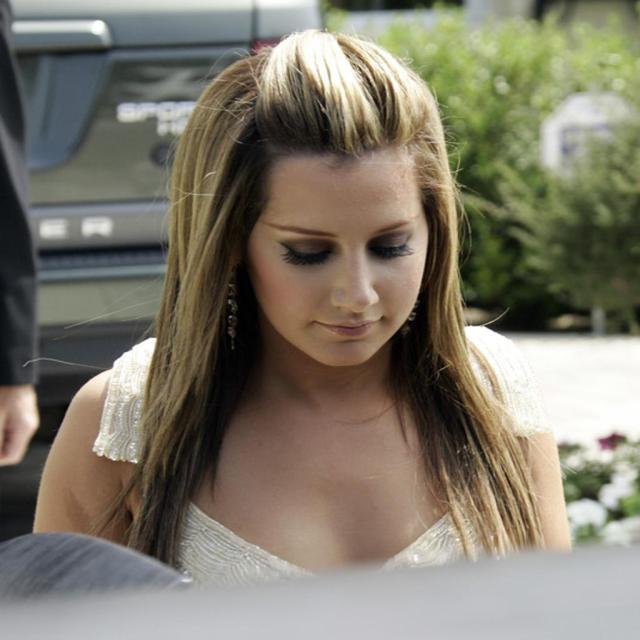Face: (223, 118, 450, 373)
